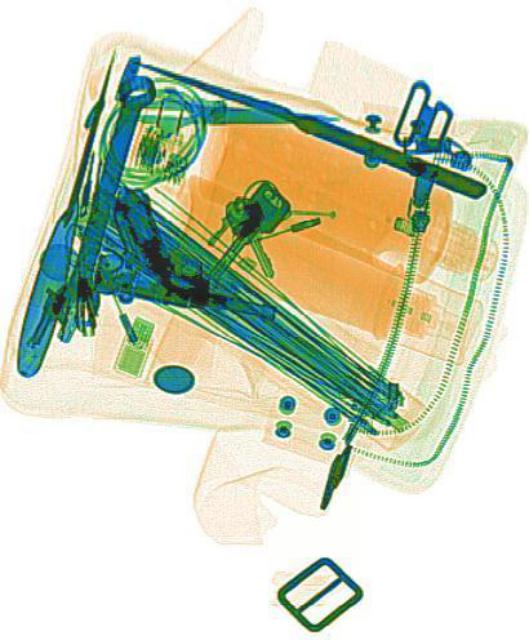Gun: (93, 181, 284, 321)
Knife: (128, 48, 485, 200), (4, 46, 133, 377), (136, 85, 339, 137)
Wrench: (42, 65, 160, 328)
